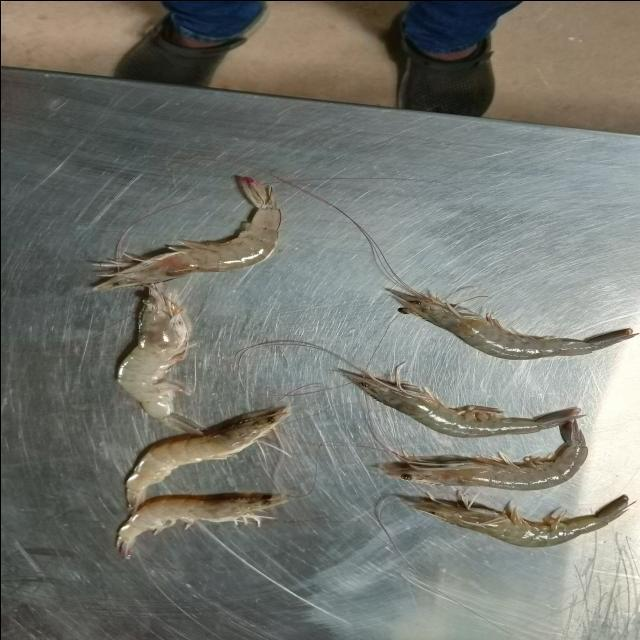shrimp: (118, 286, 288, 491), (93, 176, 279, 289), (388, 289, 633, 359), (343, 371, 578, 436), (410, 430, 585, 489), (118, 494, 284, 552), (410, 500, 620, 545)
